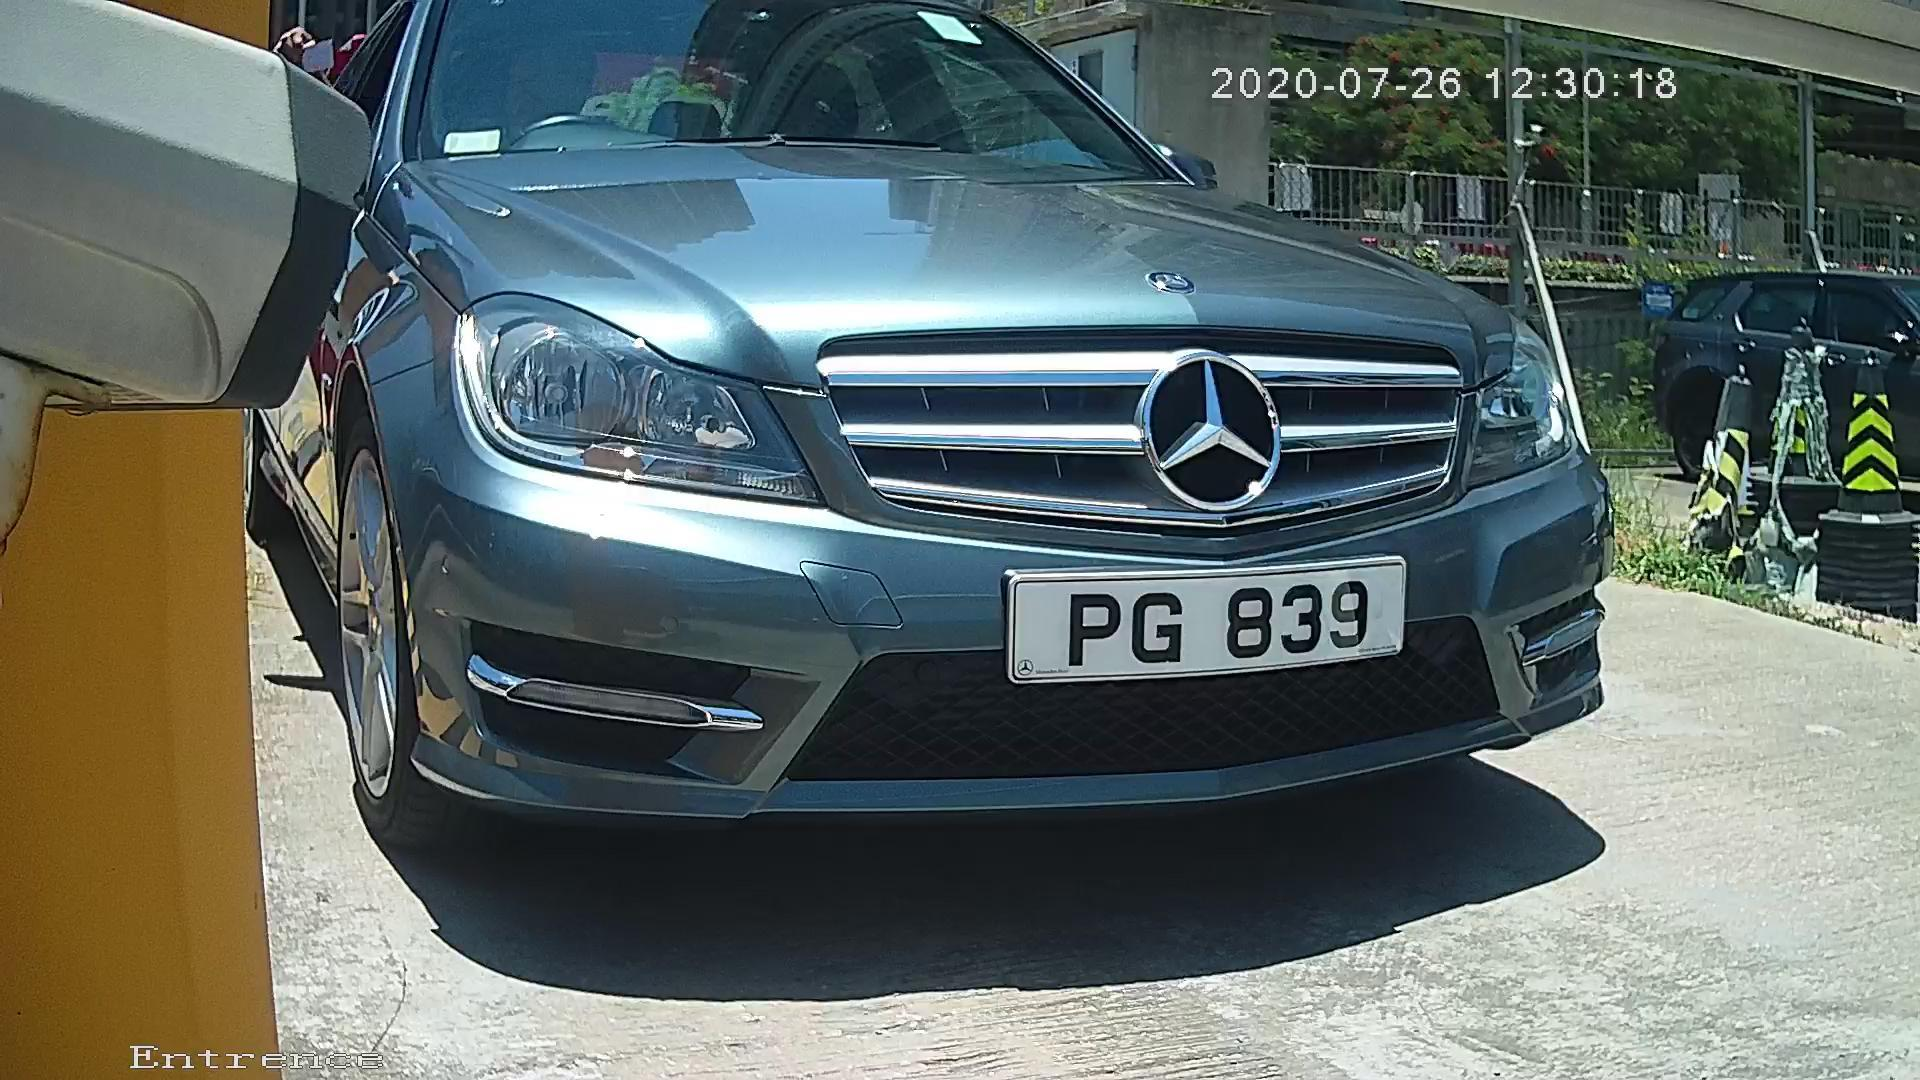privatecar: (223, 34, 1741, 942)
